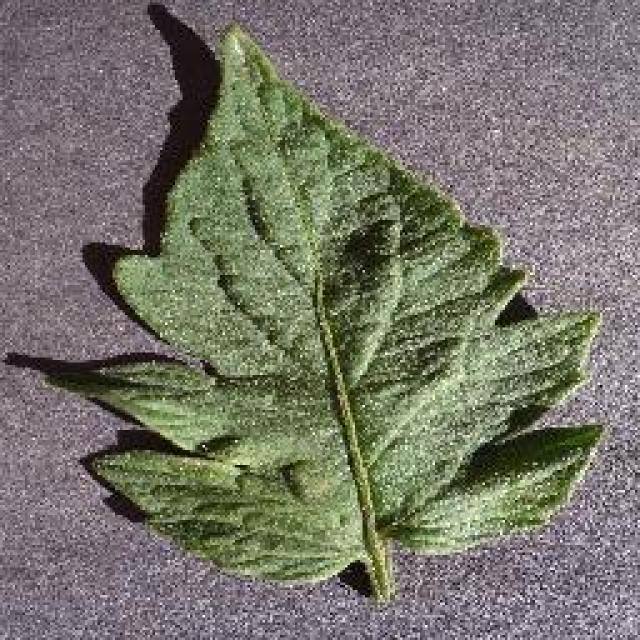Healthy: (44, 24, 611, 606)
